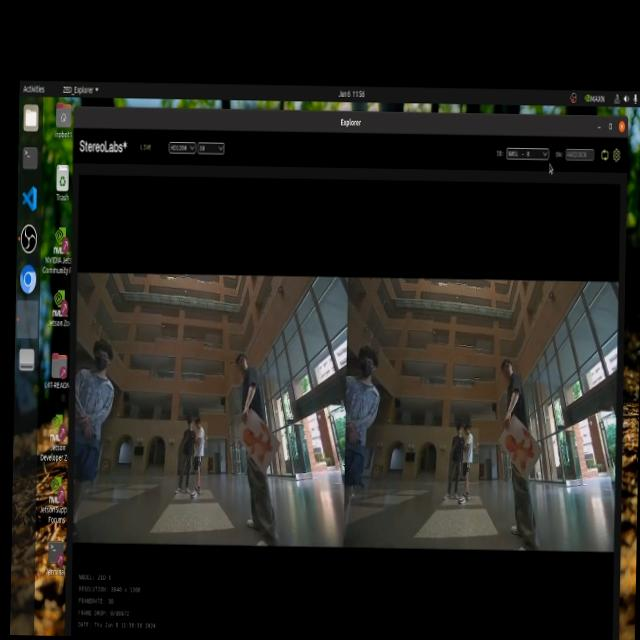red: (242, 412, 280, 470), (500, 422, 539, 478)
